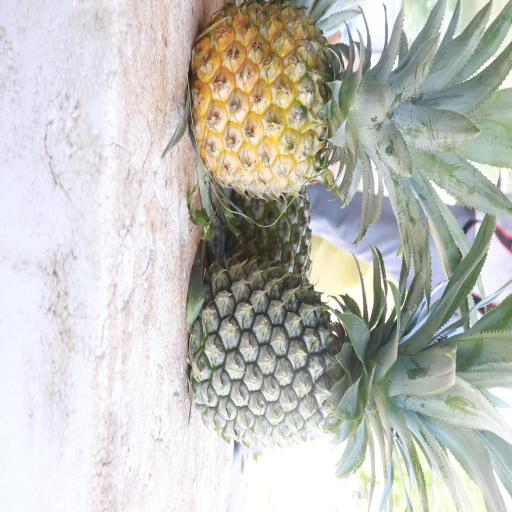Pineapple - v8 v1: (185, 0, 436, 209)
